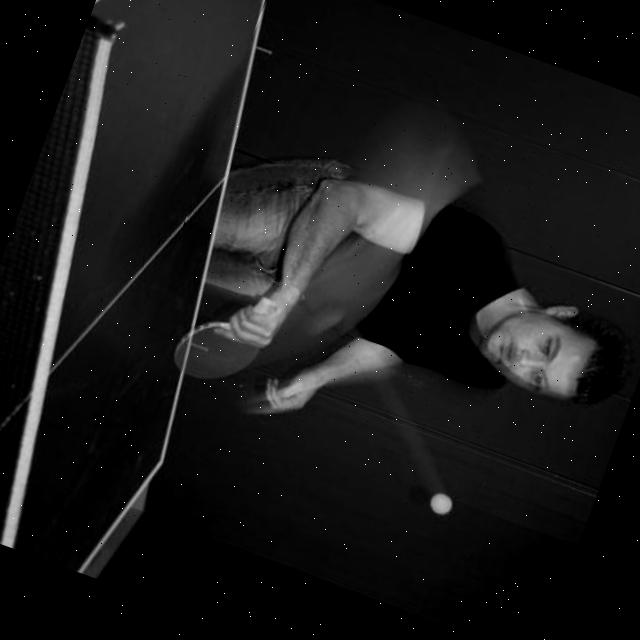ping-pong-ball: (426, 488, 456, 518)
